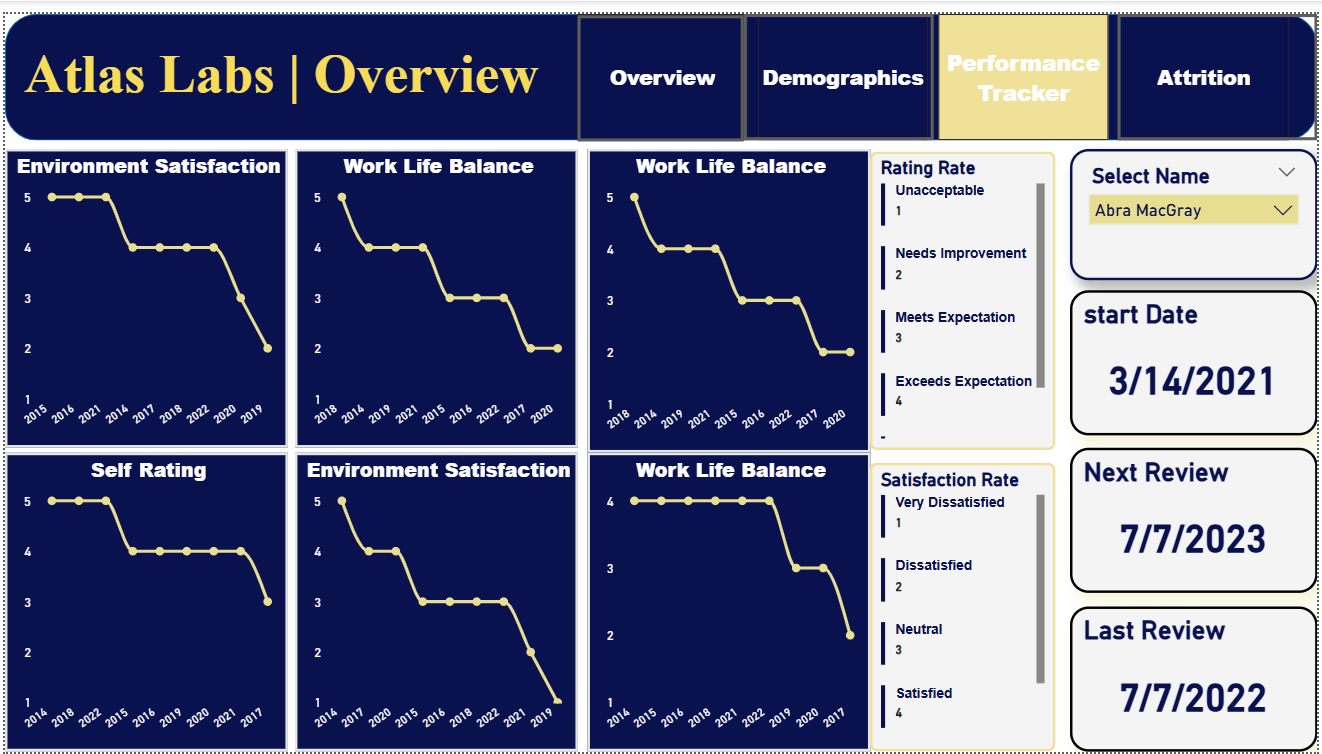

What the dashboard file says about the page in this screenshot:
{"tool":"powerbi","page":{"name":"Performance Tracker","canvas":[1280,720],"ordinal":2},"visuals":[{"type":"shape","box":[0,0,1280.3,123.5],"z":0},{"type":"textbox","box":[13.7,23.3,522.8,75.5],"z":1000},{"type":"pageNavigator","box":[558.5,0,695.7,123.5],"z":2000},{"type":"lineChart","title":"Environment Satisfaction ","fields":{"Y":["_Measures.Environment Satisfaction"],"Category":["DimDate.Year"]},"box":[0,131.7,275.6,291.5],"z":3000},{"type":"lineChart","title":"Self Rating","fields":{"Category":["DimDate.Year"],"Y":["_Measures.Self Rating"]},"box":[0,428,275.6,291.5],"z":4000},{"type":"lineChart","title":"Work Life Balance","fields":{"Category":["DimDate.Year"],"Y":["Sum(FactPerformanceRating.WorkLifeBalance)"]},"box":[282.9,131.7,275.6,291.5],"z":5000},{"type":"lineChart","title":"Environment Satisfaction ","fields":{"Category":["DimDate.Year"],"Y":["Sum(FactPerformanceRating.JobSatisfaction)"]},"box":[282.9,428,275.6,291.5],"z":6000},{"type":"slicer","fields":{"Values":["DimEmployee.Full Name"]},"box":[1039,131.7,241.5,128],"z":7000},{"type":"lineChart","title":"Work Life Balance","fields":{"Category":["DimDate.Year"],"Y":["Sum(FactPerformanceRating.WorkLifeBalance)"]},"box":[568.3,131.7,275.6,296.3],"z":8000},{"type":"lineChart","title":"Work Life Balance","fields":{"Category":["DimDate.Year"],"Y":["Sum(FactPerformanceRating.ManagerRating)"]},"box":[568.3,428,275.6,291.5],"z":9000},{"type":"cardVisual","title":"start Date ","fields":{"Data":["Min(DimEmployee.HireDate)"]},"box":[1039,269.5,241.5,141.5],"z":10000},{"type":"cardVisual","title":"Next Review ","fields":{"Data":["_Measures.Next Review Date"]},"box":[1039,423.2,241.5,141.5],"z":11000},{"type":"cardVisual","title":"Last Review ","fields":{"Data":["_Measures.Last Review Date"]},"box":[1039,578,241.5,141.5],"z":12000},{"type":"multiRowCard","title":"Rating Rate","fields":{"Values":["DimRatingLevel.RatingID","DimRatingLevel.RatingLevel"]},"box":[843.9,134.1,180.5,291.5],"z":13000},{"type":"multiRowCard","title":"Satisfaction Rate","fields":{"Values":["DimSatisfiedLevel.SatisfactionID","DimSatisfiedLevel.SatisfactionLevel"]},"box":[843.9,437.8,180.5,281.7],"z":14000},{"type":"actionButton","box":[720.7,0,185.4,123.2],"z":14001},{"type":"actionButton","box":[1085.4,0,195.1,123.2],"z":14002},{"type":"actionButton","box":[558.5,1.2,162.2,123.2],"z":14003}]}

Visuals, with their boxes in screenshot pixels (x1, y1, x2, y2), scaled from the page's 1280x720 canvas onto the 1322x754 screenshot:
shape: detection(0, 0, 1321, 129)
textbox: detection(14, 24, 554, 103)
pageNavigator: detection(577, 0, 1295, 129)
"Environment Satisfaction " lineChart: detection(0, 138, 285, 443)
"Self Rating" lineChart: detection(0, 448, 285, 753)
"Work Life Balance" lineChart: detection(292, 138, 577, 443)
"Environment Satisfaction " lineChart: detection(292, 448, 577, 753)
slicer - DimEmployee.Full Name: detection(1073, 138, 1321, 272)
"Work Life Balance" lineChart: detection(587, 138, 872, 448)
"Work Life Balance" lineChart: detection(587, 448, 872, 753)
"start Date " cardVisual: detection(1073, 282, 1321, 430)
"Next Review " cardVisual: detection(1073, 443, 1321, 591)
"Last Review " cardVisual: detection(1073, 605, 1321, 753)
"Rating Rate" multiRowCard: detection(872, 140, 1058, 446)
"Satisfaction Rate" multiRowCard: detection(872, 458, 1058, 753)
actionButton: detection(744, 0, 936, 129)
actionButton: detection(1121, 0, 1321, 129)
actionButton: detection(577, 1, 744, 130)
